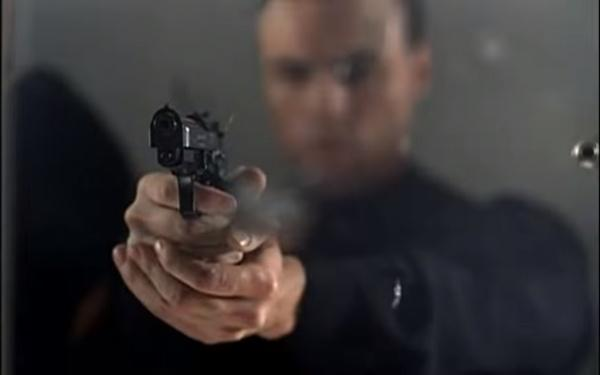Gun: (149, 104, 232, 218)
